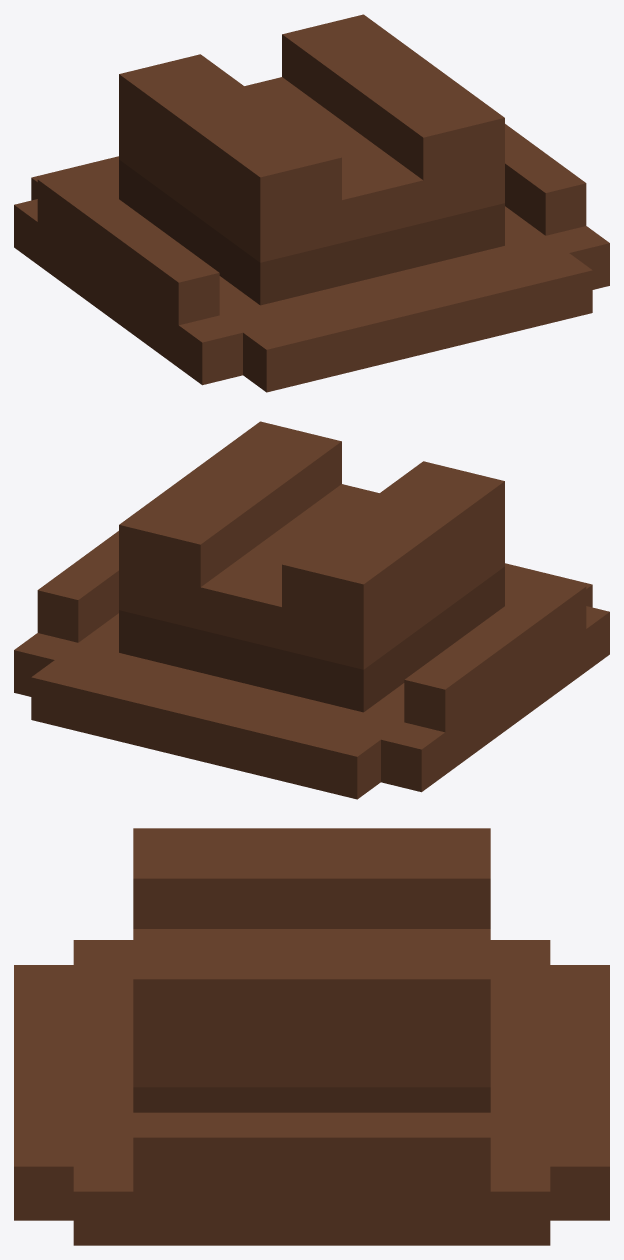
Rendered from cowboy_hat1.fbx.
3 views of the same model, one above another, from view 1: azimuth 30°, elevation 25°; view 2: azimuth 150°, elevation 25°; view 3: azimuth 270°, elevation 25° (orthographic). The views are drawn at different scales.
Visible parts, largest first — view 1: cowboy_hat1; view 2: cowboy_hat1; view 3: cowboy_hat1.
Boxes of the visible parts, x1=… form: cowboy_hat1: x1=14, y1=14, x2=609, y2=392; cowboy_hat1: x1=14, y1=421, x2=609, y2=799; cowboy_hat1: x1=14, y1=828, x2=609, y2=1245.
Size of the model in its own units: 100 by 40 by 100.
Materials: 1 (1 with a texture image).
